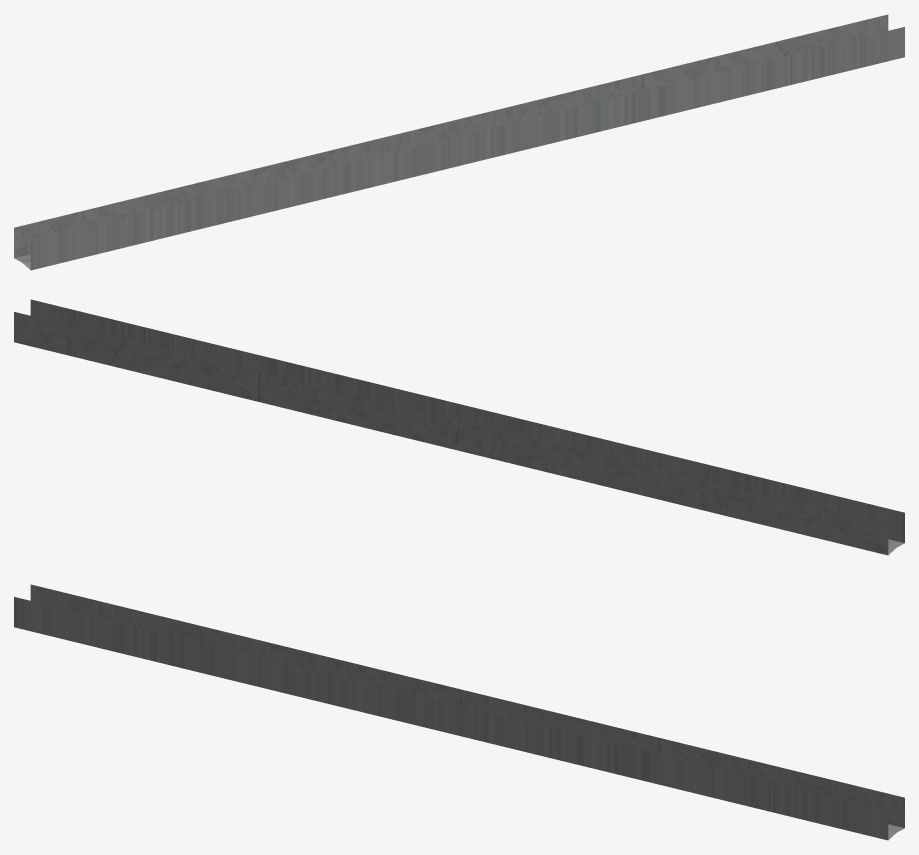
Rendered from warehouse_roof_detail.glb.
3 renders of one model, top to bottom at view 1: azimuth 30°, elevation 25°; view 2: azimuth 150°, elevation 25°; view 3: azimuth 330°, elevation 25°, orthographic.
Visible parts, largest first — view 1: Cube.221; view 2: Cube.221; view 3: Cube.221.
Boxes of the visible parts, <box> form: Cube.221: <box>14,14,904,270</box>; Cube.221: <box>14,299,904,555</box>; Cube.221: <box>14,584,904,840</box>.
Size of the model in its own units: 12 by 0.4 by 0.4.
Materials: 1 (1 with a texture image).
